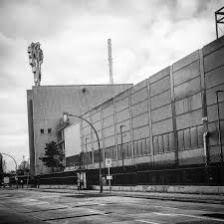smoke: (3, 1, 42, 30)
